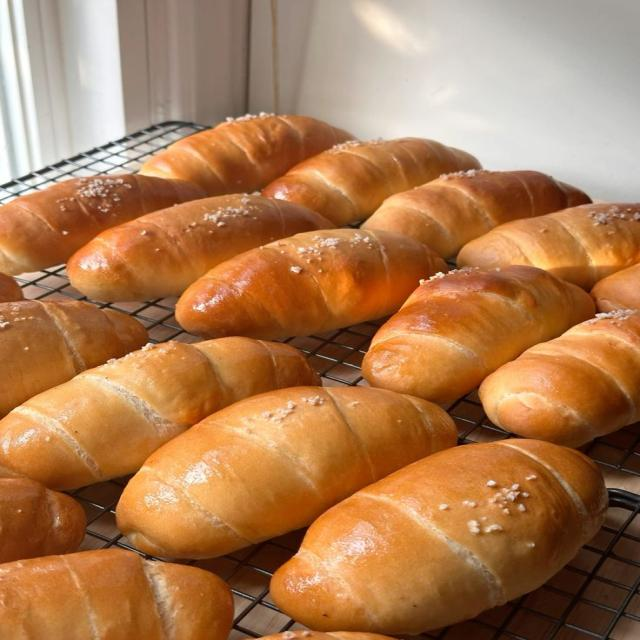bread: (271, 440, 606, 634), (117, 387, 456, 558), (0, 338, 319, 489), (362, 266, 594, 403), (176, 229, 446, 339), (67, 194, 333, 300), (480, 310, 639, 446), (0, 549, 233, 639), (0, 175, 206, 274), (362, 170, 590, 259), (263, 138, 480, 225), (140, 113, 353, 195), (0, 301, 147, 416), (458, 203, 639, 289), (0, 478, 85, 563), (592, 264, 639, 311), (259, 630, 390, 639), (0, 273, 24, 302)
